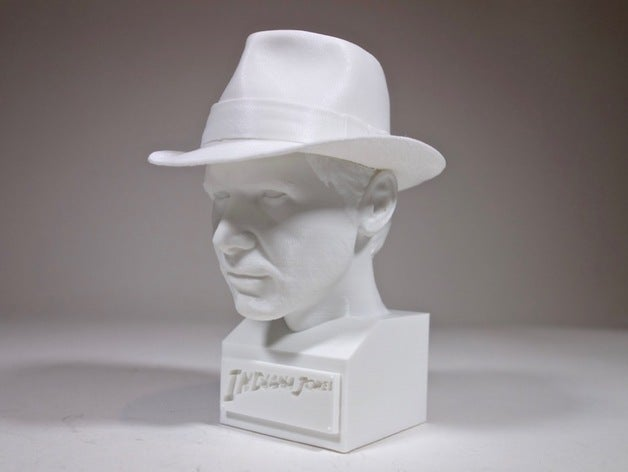Good: (128, 10, 480, 458)
